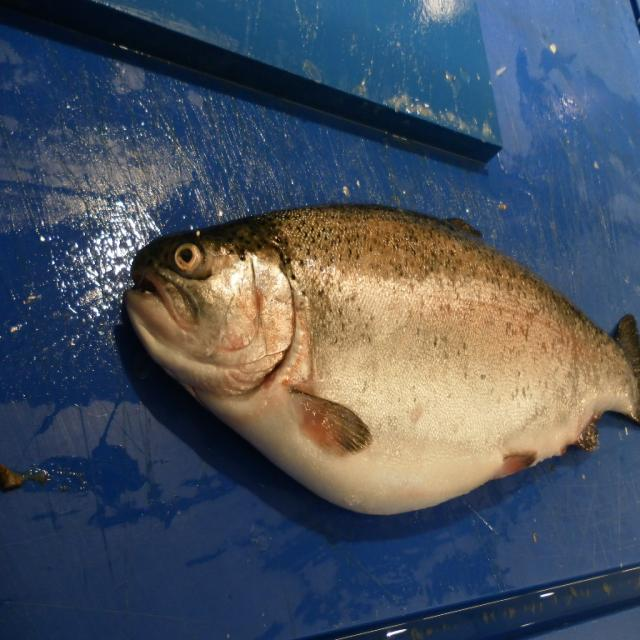Trout-alabalik-: (125, 205, 640, 512)
